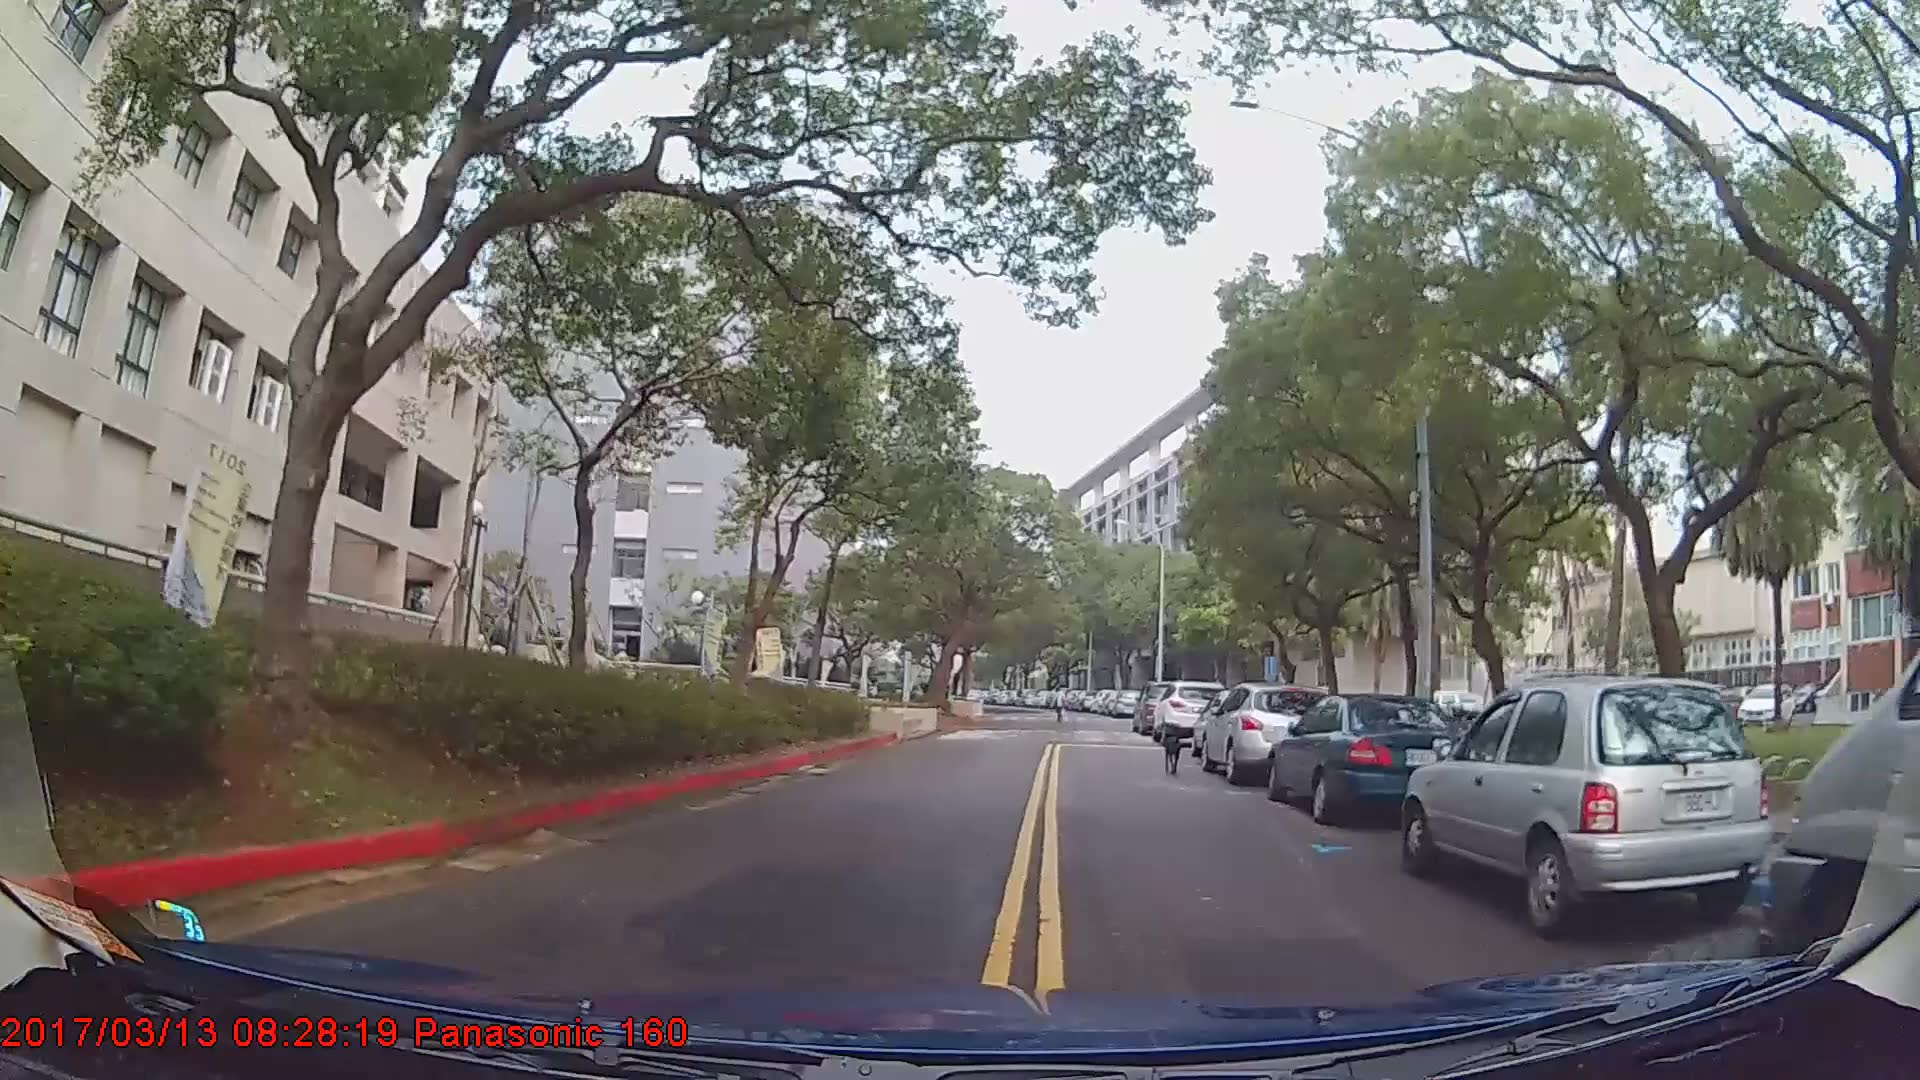pedestrian: (1052, 687, 1072, 725)
vehicle: (1404, 673, 1773, 933), (1769, 648, 1920, 1026), (1267, 692, 1485, 830), (1199, 680, 1335, 784), (1152, 680, 1230, 746)
